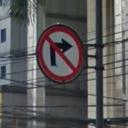NoVirarDireita: (34, 22, 87, 86)
